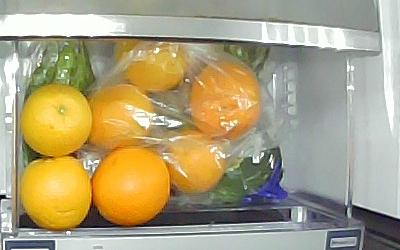orange: (90, 144, 171, 224), (19, 82, 92, 157), (19, 155, 91, 229)
orange_vinyl: (189, 58, 260, 138), (87, 82, 154, 150), (113, 40, 189, 91), (166, 128, 225, 191)
